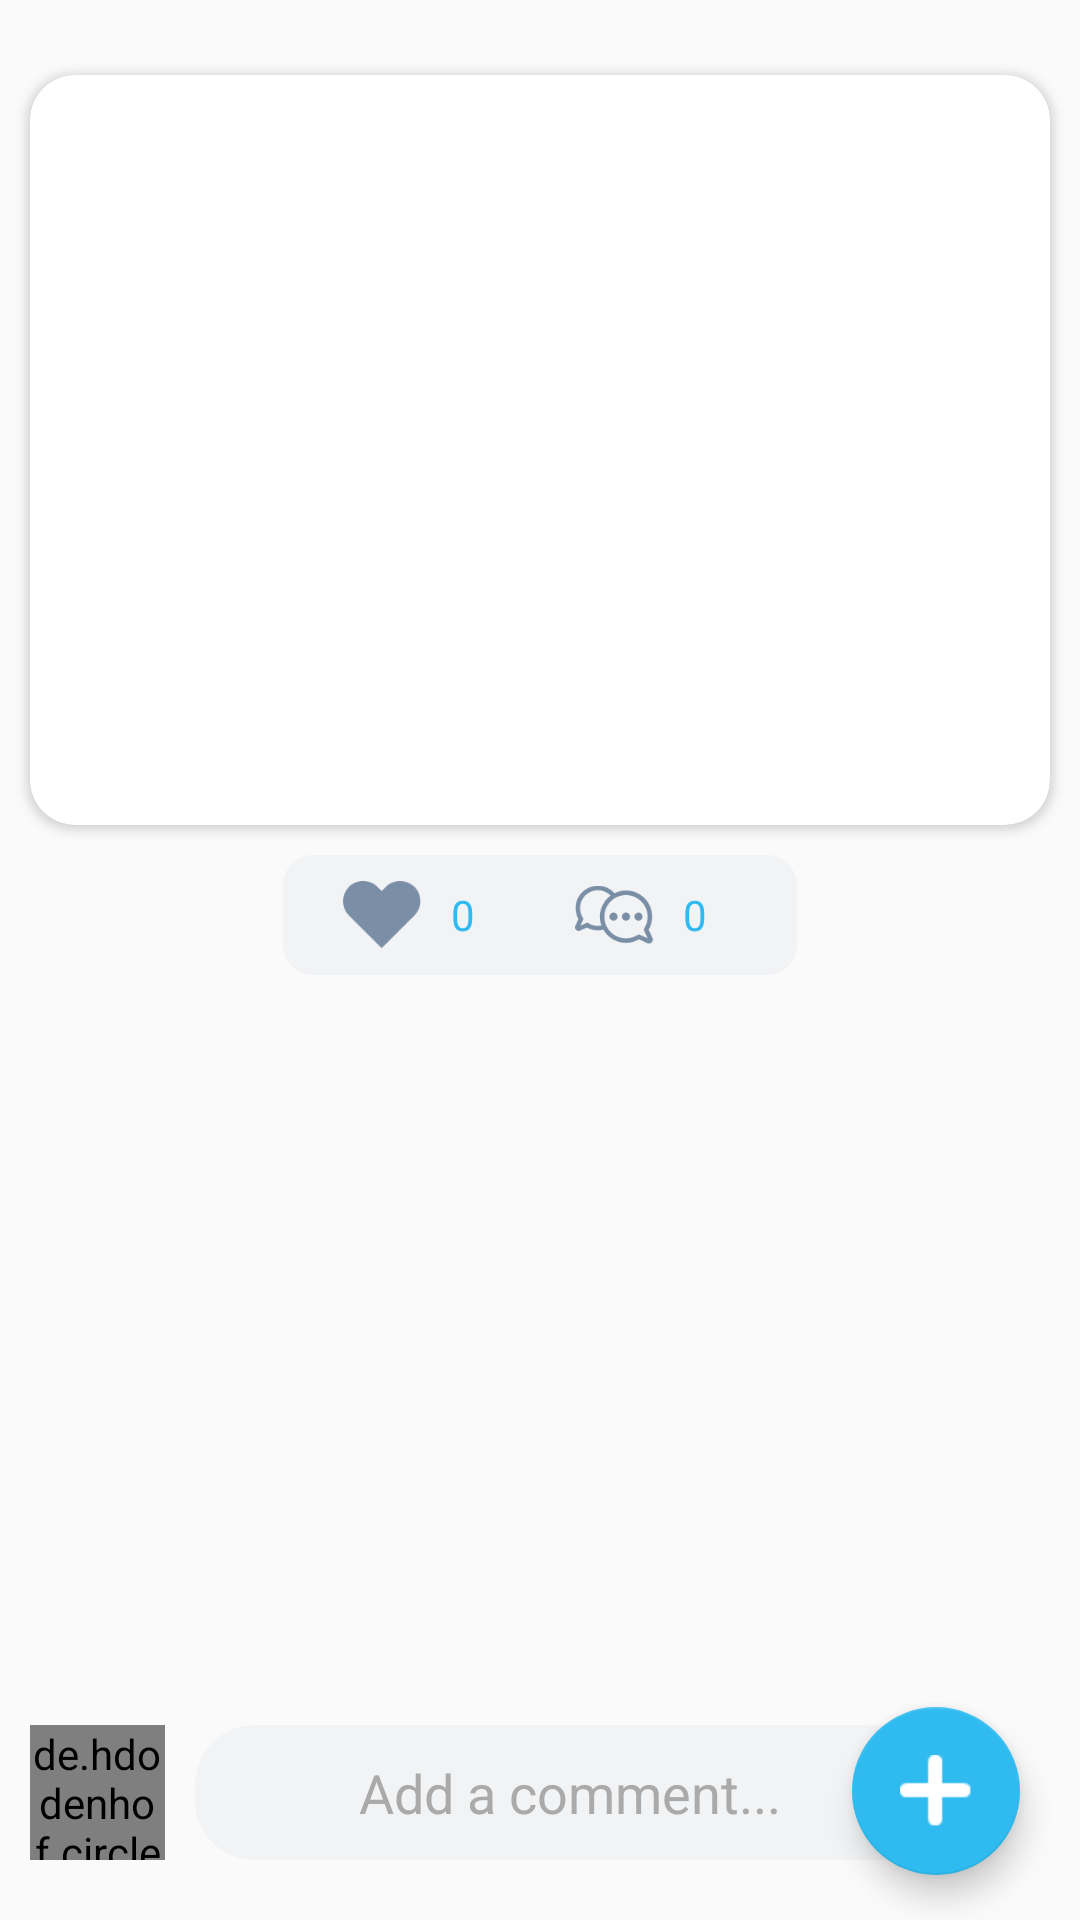

Icons on this 1080w x 1920h Android screen, each with the point to tap as point (x, y):
comments: point (614, 915)
heart not clicked: point (382, 914)
